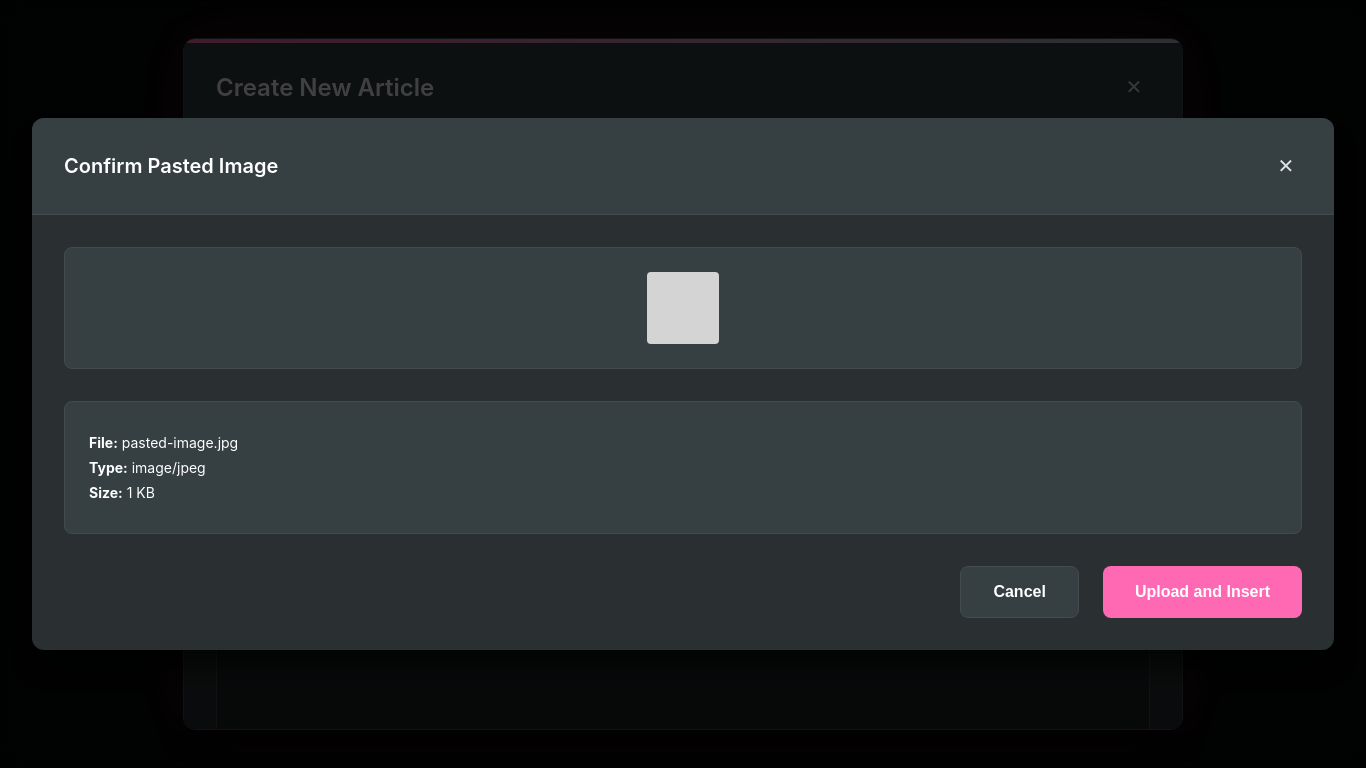
Test: ArticleEditor › Paste Functionality › shows error when paste upload fails
# Confirm upload
Click the button "Upload and Insert" at (1202, 592), box [1103, 566, 1302, 618]
(page scrolled)
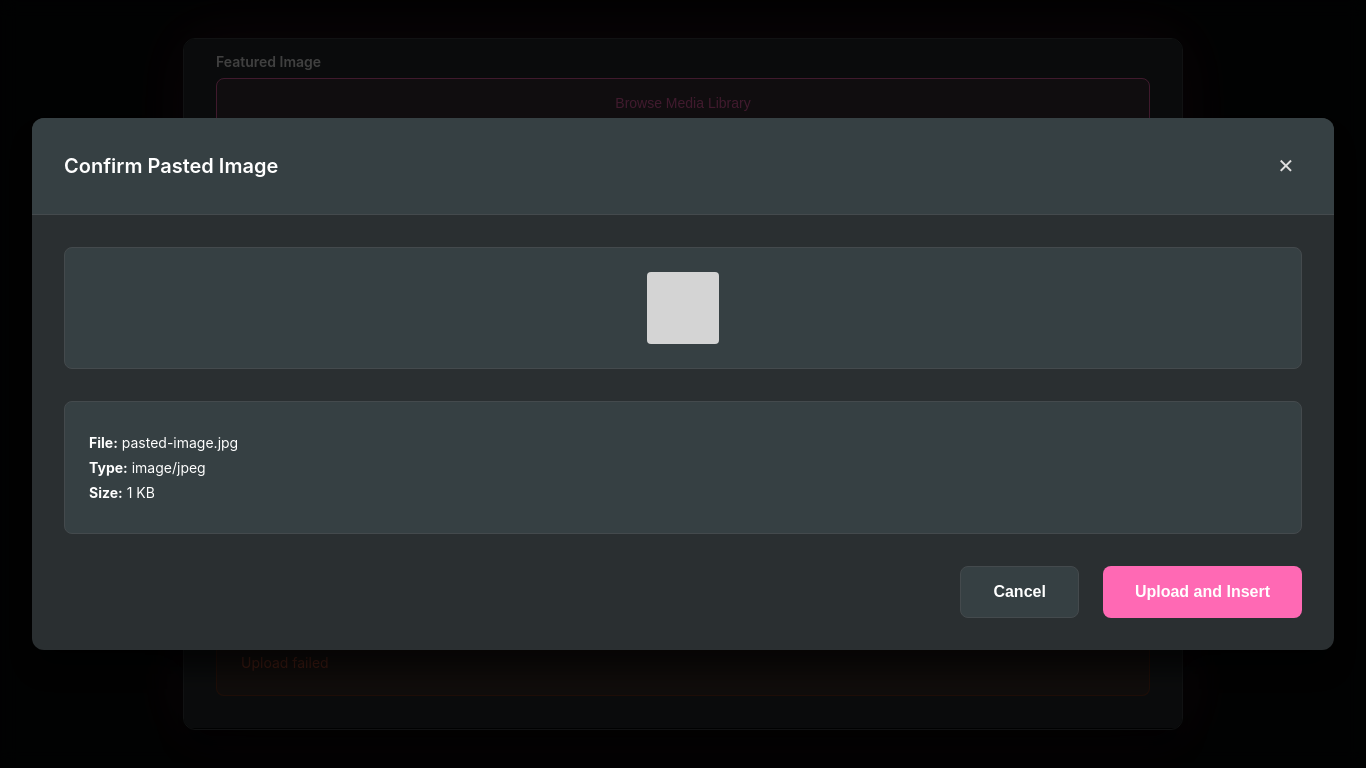
Now the text with class "error-message" reads "Upload failed", box [241, 654, 329, 671]
